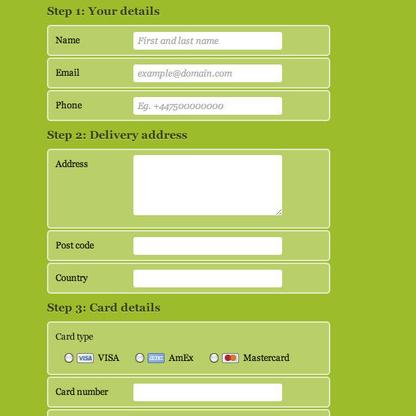field: (130, 153, 286, 217), (130, 381, 286, 403), (131, 235, 284, 257), (131, 62, 285, 83), (131, 30, 283, 51), (130, 95, 285, 115), (131, 269, 284, 287)
field_with_label: (55, 151, 288, 218), (56, 232, 286, 258), (55, 60, 288, 85), (56, 379, 287, 404), (55, 28, 286, 52), (55, 94, 287, 117), (56, 266, 286, 289)
radio: (62, 352, 74, 365), (209, 353, 220, 363), (135, 353, 143, 362)
radio_with_label: (207, 350, 290, 366), (59, 349, 119, 366), (132, 350, 195, 365)
